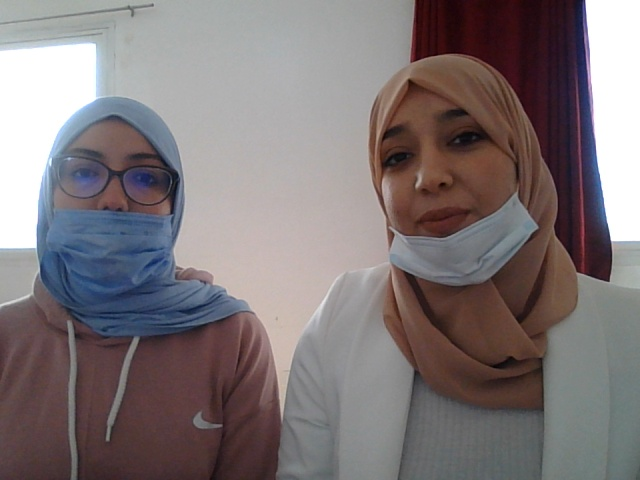mask_weared_incorrect: (342, 51, 558, 299), (40, 93, 191, 289)
